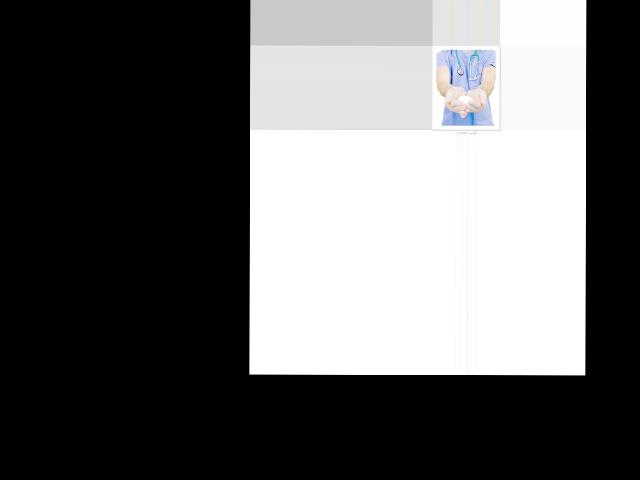egg: (457, 95, 473, 105)
